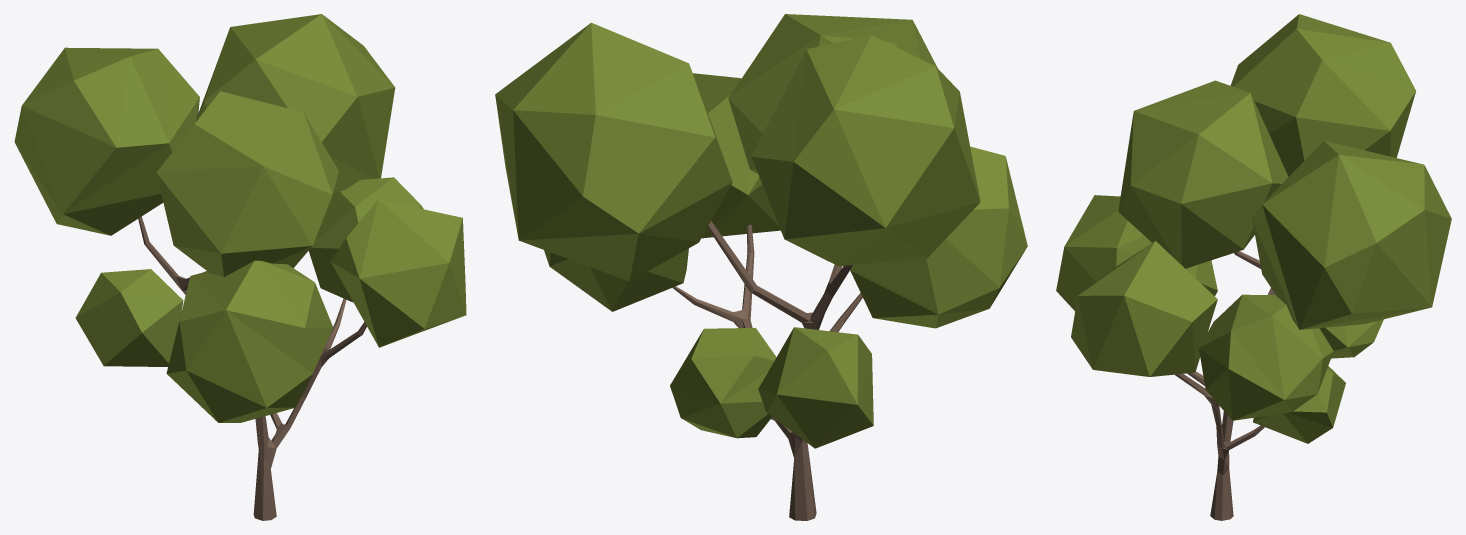
File: arbol1.fbx
3 renders of one model, left to right at view 1: azimuth 30°, elevation 25°; view 2: azimuth 150°, elevation 25°; view 3: azimuth 270°, elevation 25°, orthographic. The views are drawn at different scales.
Visible parts, largest first — view 1: arbol_1:Mesh; view 2: arbol_1:Mesh; view 3: arbol_1:Mesh.
Boxes of the visible parts, <box> form: arbol_1:Mesh: <box>14,14,466,520</box>; arbol_1:Mesh: <box>495,14,1027,520</box>; arbol_1:Mesh: <box>1056,14,1451,520</box>.
Bounding box in the file's own units: 7.73 × 8.98 × 7.3.
1 material, 1 textured.
